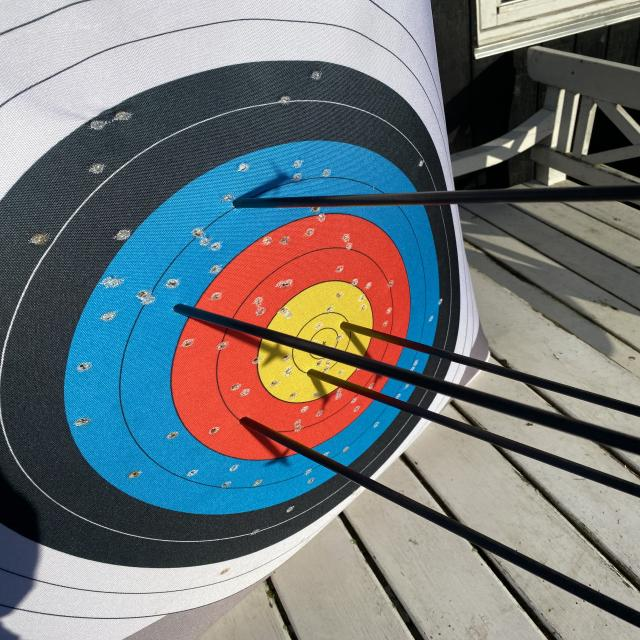Arrow_Blue: (223, 181, 266, 225), (158, 286, 199, 324)
Arrow_Red: (228, 401, 268, 437)
Arrow_Yellow: (289, 357, 348, 395), (332, 317, 372, 352)
